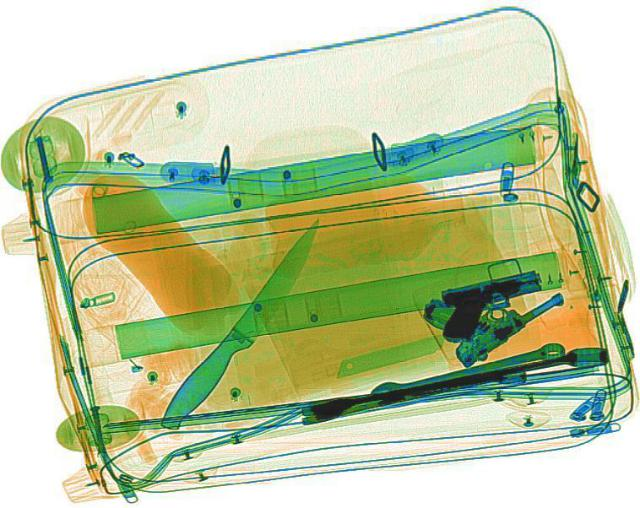Gun: (402, 249, 572, 369), (428, 267, 558, 340)
Knife: (153, 209, 337, 430)
Wrench: (366, 336, 566, 403)
